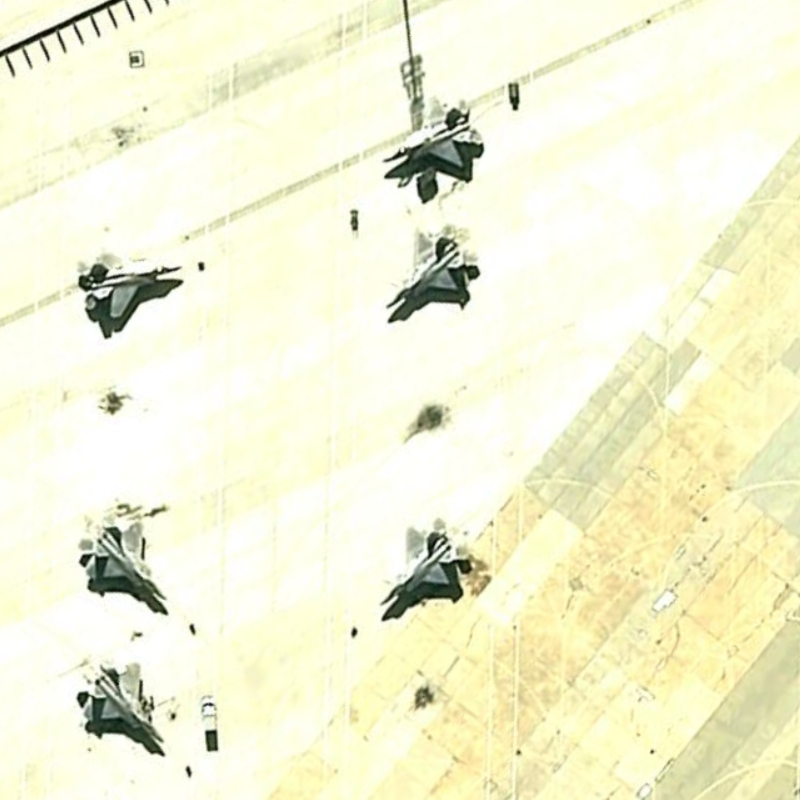A15: (377, 88, 490, 189), (65, 648, 173, 751), (69, 508, 176, 611), (377, 217, 484, 318), (377, 515, 476, 615), (71, 247, 189, 327)
